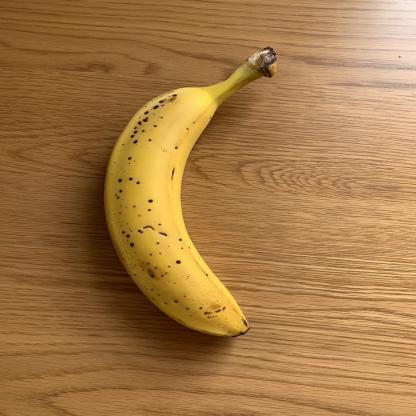banana: (99, 44, 303, 350)
